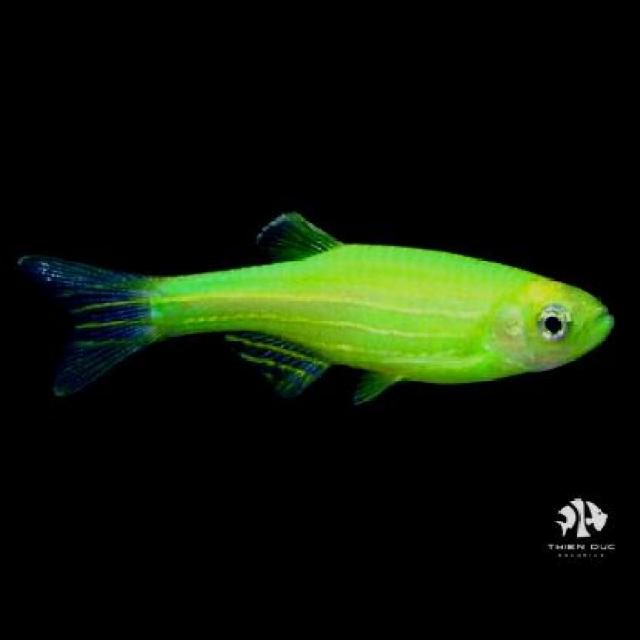ZebraFish: (18, 206, 613, 397)
